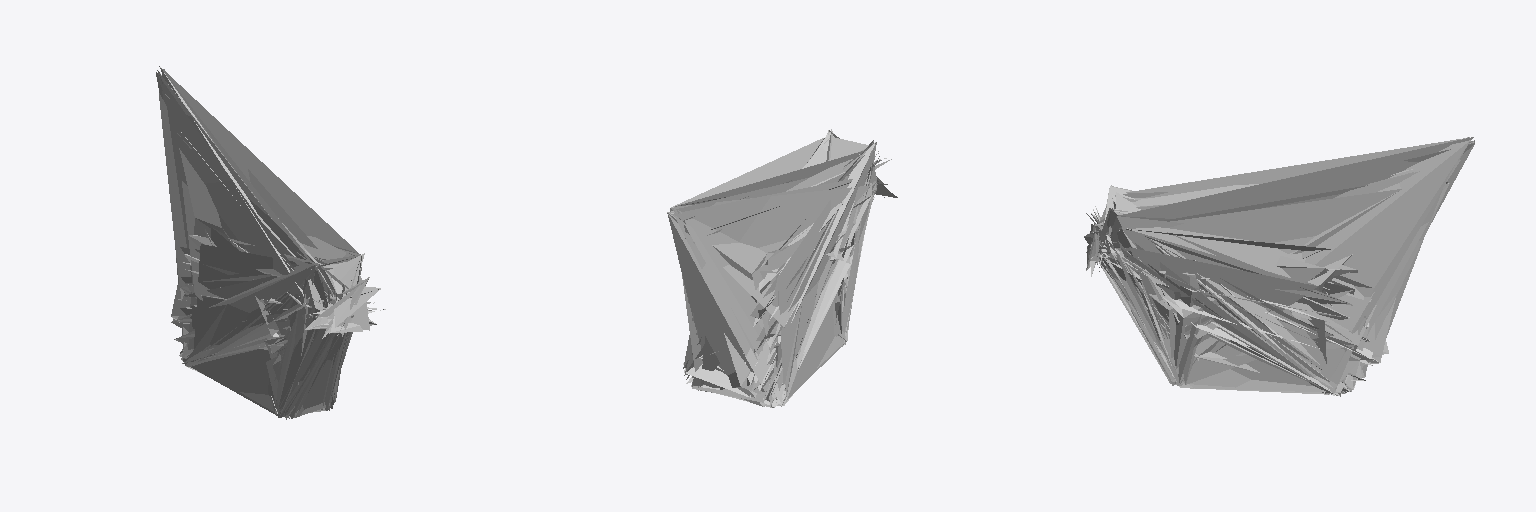
Rendered from cat.obj.
The picture shows the model from 3 angles: view 1: azimuth 30°, elevation 25°; view 2: azimuth 150°, elevation 25°; view 3: azimuth 270°, elevation 25°; orthographic projection.
Parts seen in each view (by area): view 1: cat_01_color05; view 2: cat_01_color05; view 3: cat_01_color05.
Boxes of the visible parts, x1,y1,x2,y2 form: cat_01_color05: [156, 66, 385, 419]; cat_01_color05: [667, 129, 897, 407]; cat_01_color05: [1084, 137, 1474, 396].
Size of the model in its own units: 14.71 by 37.3 by 55.5.